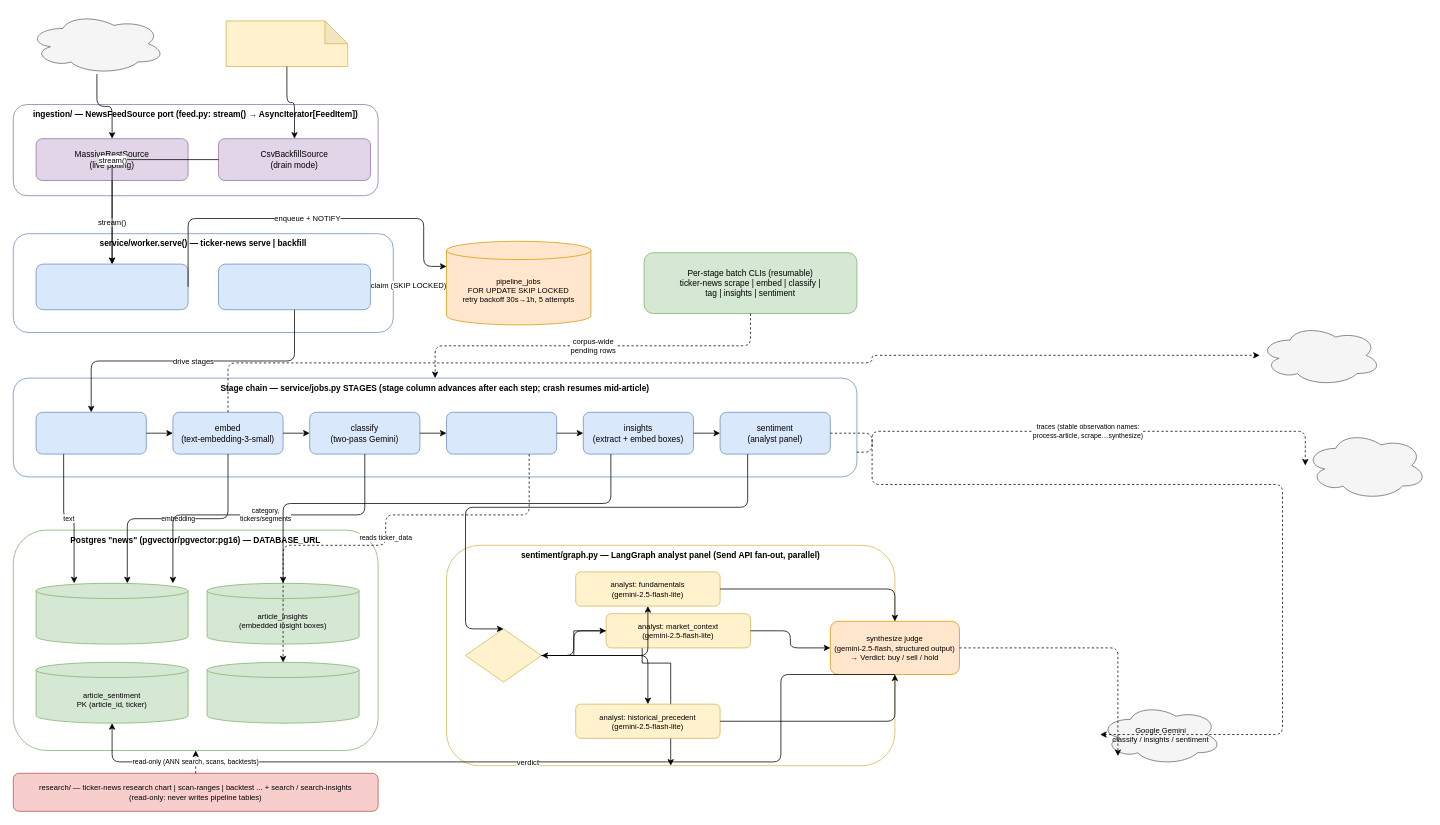
Some shapes in this 1440 by 825 pixel diagram are drawn without their labels. The centre of each missing label's shape, as x and y in pixels:
articles text + embedding vector(1536) HNSW index: the point at 111,613
Async worker pool (one conn + Store per worker): the point at 294,286
fan-out (Send): the point at 503,655
Feed task (enqueue articles): the point at 111,286
Langfuse 1 trace per article (deterministic id from URL): the point at 1366,465
Massive REST API (news metadata, candles): the point at 96,43
News CSV (ticker-news fetch-news): the point at 286,43
OpenAI embeddings: the point at 1320,355
scrape (httpx → Playwright): the point at 90,433
tag (tickers + segments): the point at 501,433
ticker_data / ticker_overview (load-universe / load-overviews): the point at 282,692
